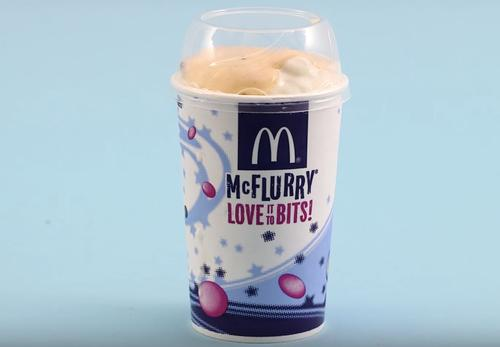mcdonalds: (247, 125, 300, 170)
